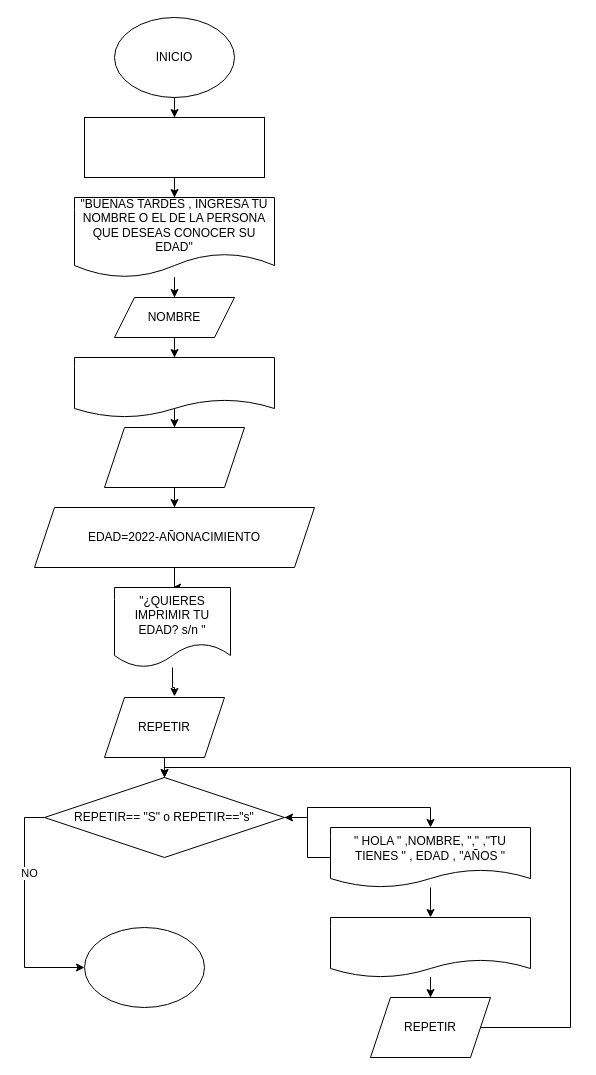
Image size: 596x1075. Some labels were removed from this diagram. The centre of each missing label's shape, as x and y in pixels:
"PORFAVOR INGRESA TU AÑO DE NACIMIENTO": the point at 174,387
"¿QUIERES CONOCER OTRA EDAD?: the point at 430,947
AÑONACIMIENTO: the point at 174,457
AÑONACIMIENTO(INT) ,REPETIR(CHAR),NOMBRE (STR),EDAD(INT): the point at 174,147
FIN: the point at 144,967
